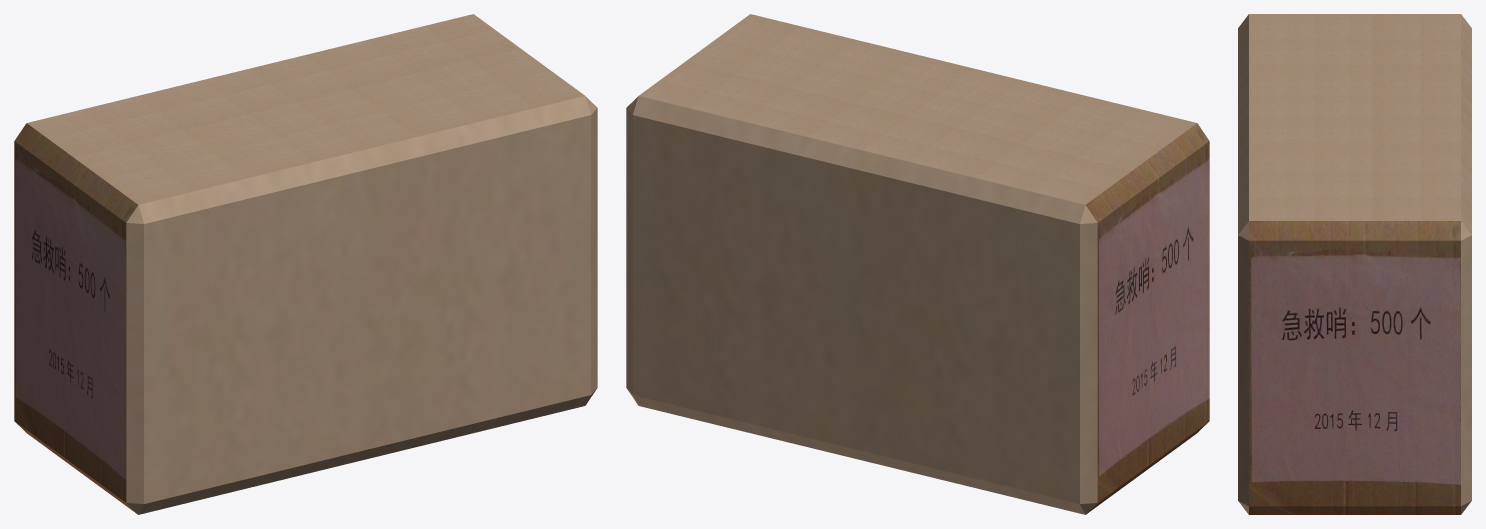
File: jijiushao.FBX
3 renders of one model, left to right at view 1: azimuth 30°, elevation 25°; view 2: azimuth 150°, elevation 25°; view 3: azimuth 270°, elevation 25°, orthographic. The views are drawn at different scales.
Visible parts, largest first — view 1: 对象26; view 2: 对象26; view 3: 对象26.
Boxes of the visible parts, x1,y1,x2,y2 form: 对象26: (14, 14, 597, 514); 对象26: (626, 14, 1209, 514); 对象26: (1238, 14, 1471, 514).
Size of the model in its own units: 0.7354 by 0.333 by 0.4622.
